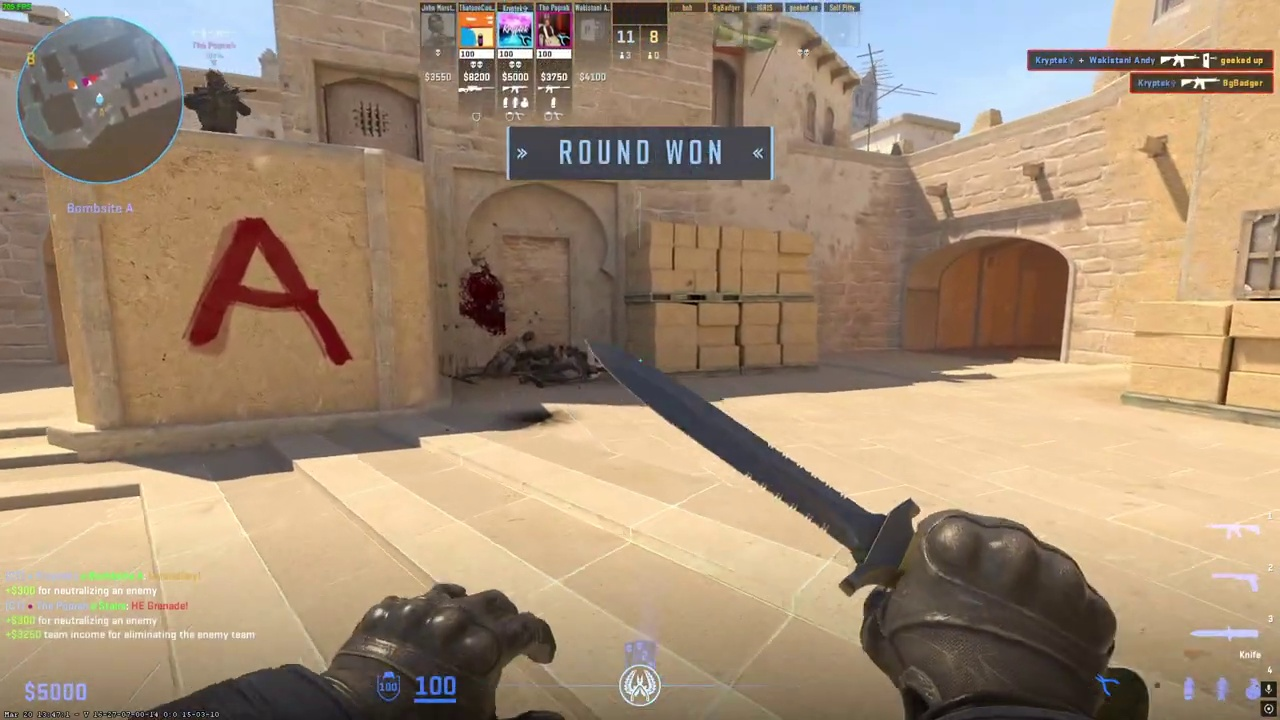CT: (188, 68, 246, 134)
